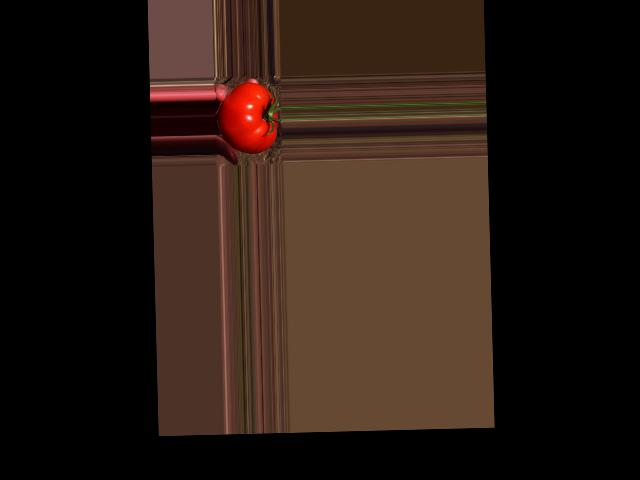tomato: (216, 81, 278, 153)
